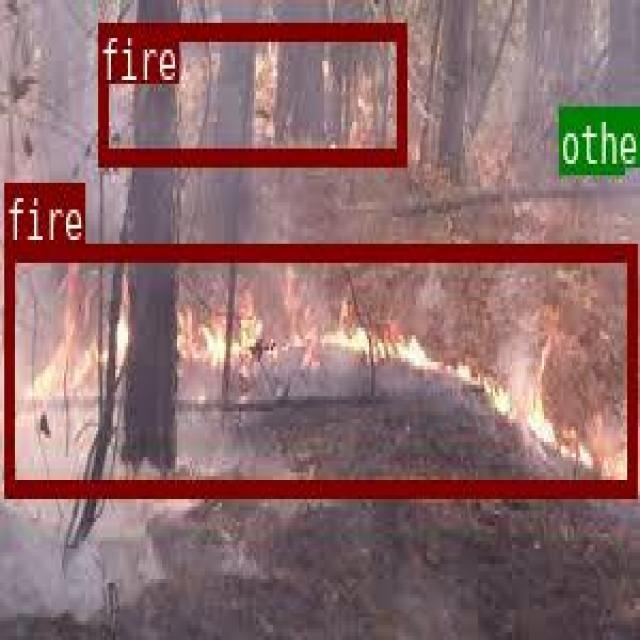fire: (3, 241, 634, 493), (97, 22, 405, 162)
